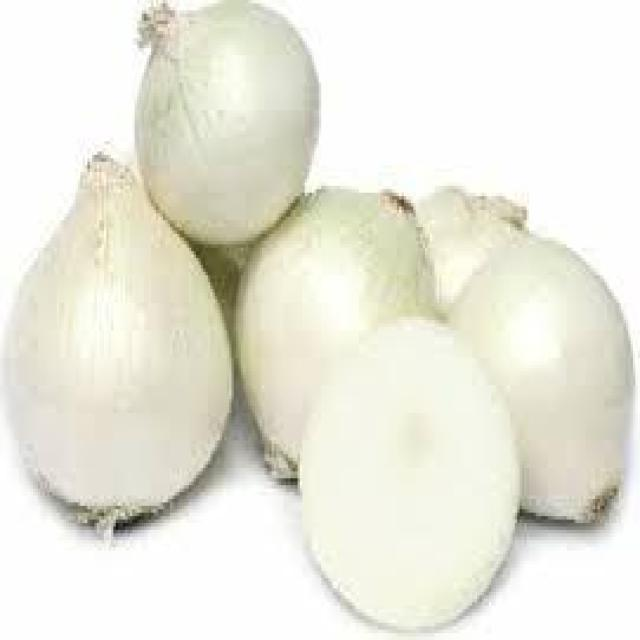Onion: (215, 177, 635, 525), (1, 144, 240, 534), (301, 313, 528, 633), (441, 180, 640, 528), (97, 2, 326, 253)
